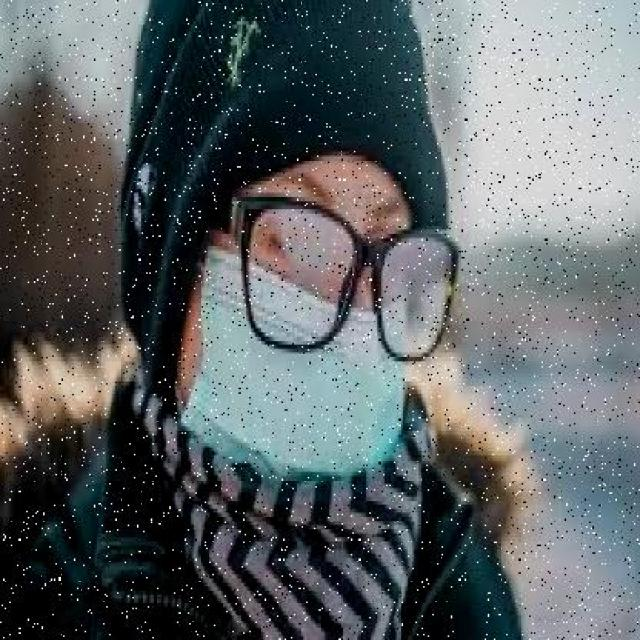glasses: (223, 172, 468, 370)
